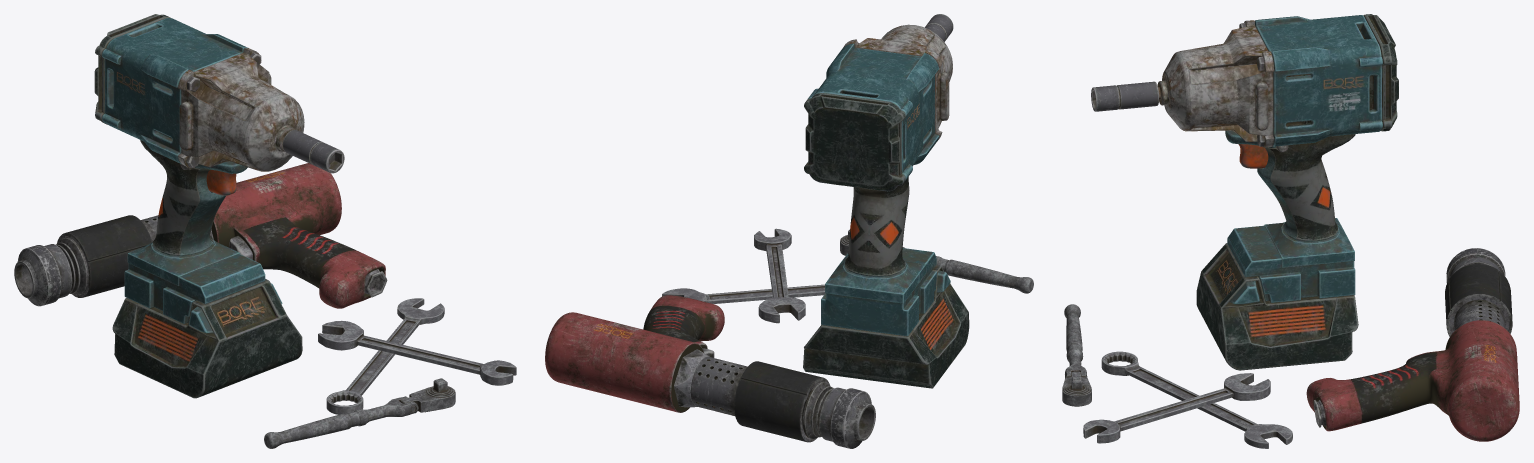
File: garage-tools.glb
3 views of the same model, side by side, from view 1: azimuth 30°, elevation 25°; view 2: azimuth 150°, elevation 25°; view 3: azimuth 270°, elevation 25° (orthographic).
Bounding box in the file's own units: 0.2667 × 0.2523 × 0.3429.
3 materials, 3 textured.
